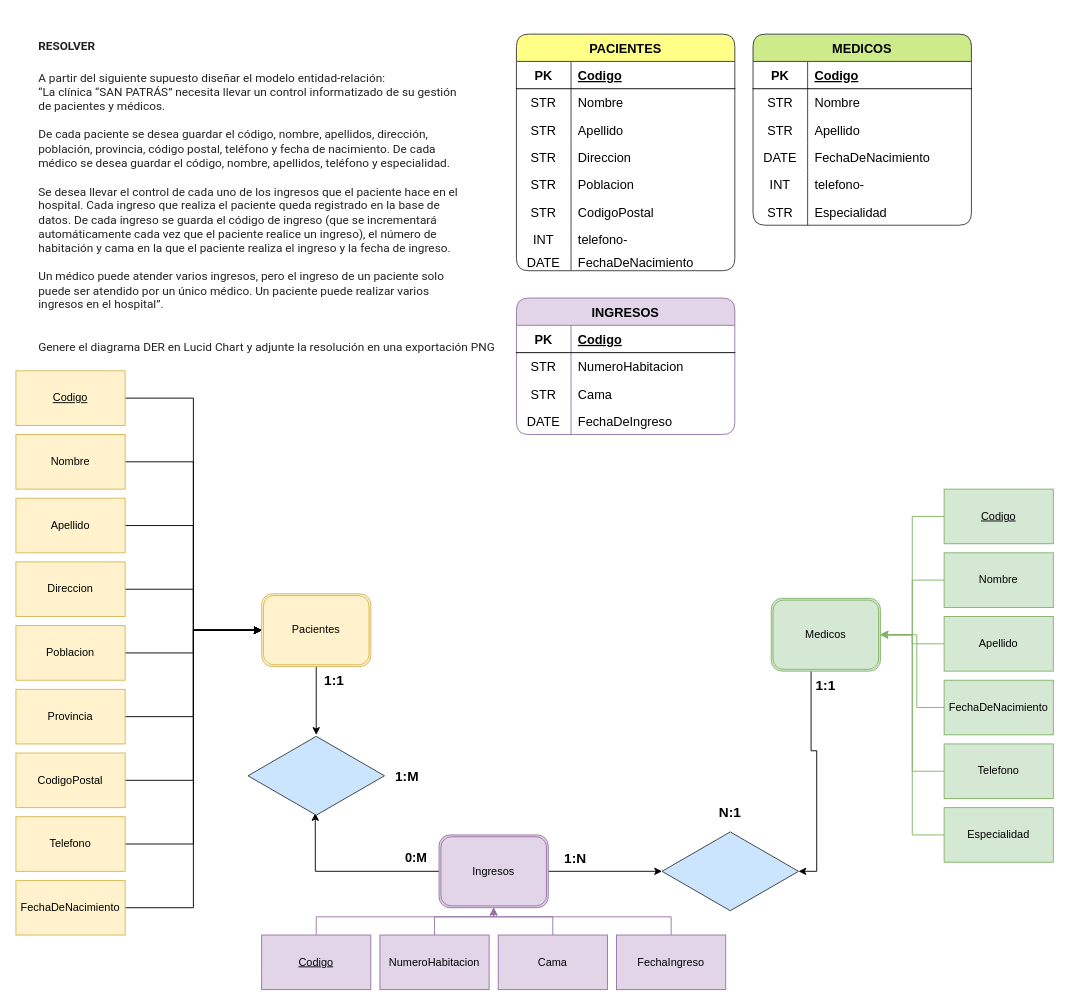
This 1069x1006 diagram has some shape labels left out. The centre of each missing label's shape, as x and y in pixels:
"Atender" goes at point (730, 870).
"Registrar" goes at point (315, 775).
